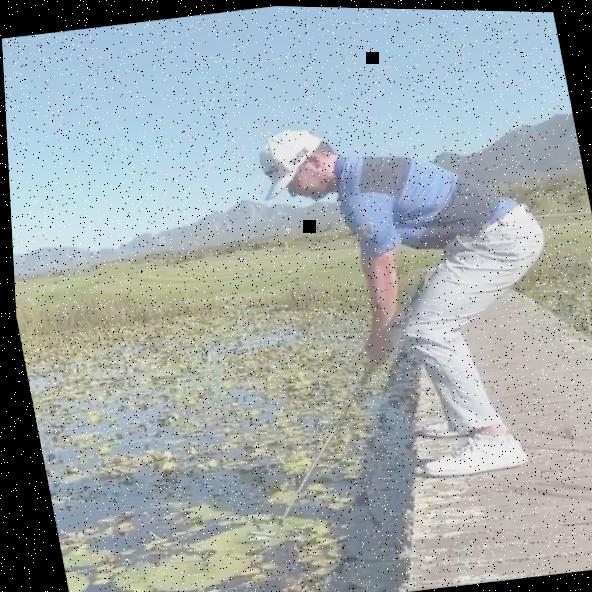ClubHead: (239, 527, 267, 543)
